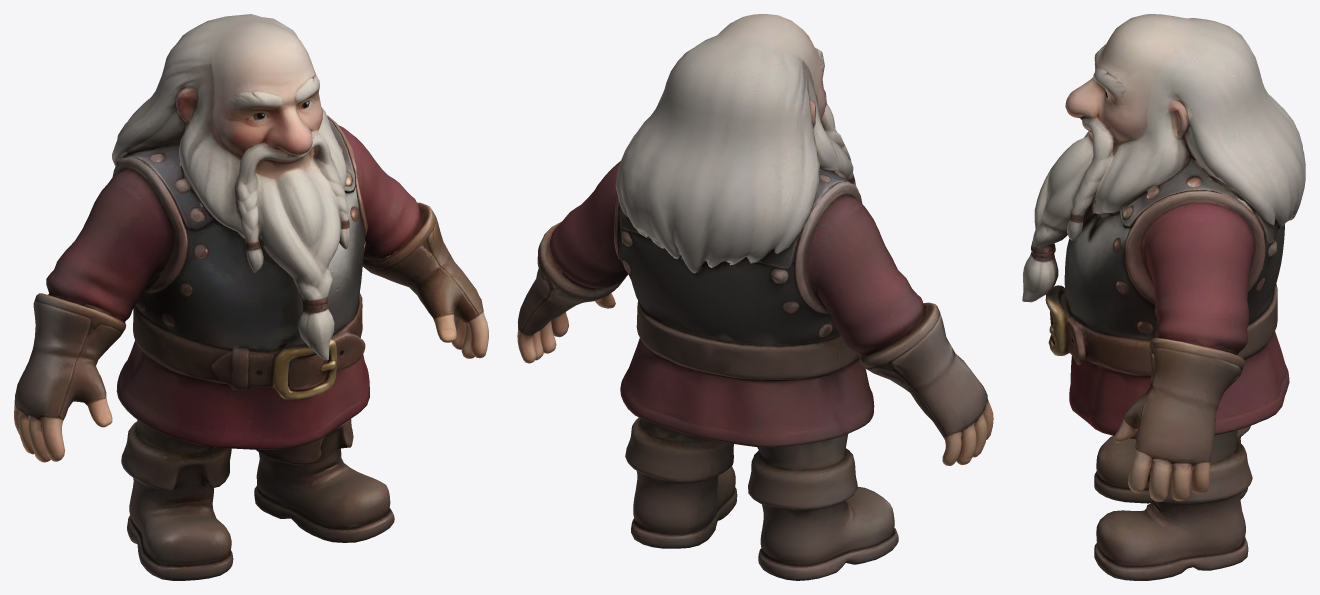
The model's file is dwarf.glb.
3 renders of one model, left to right at view 1: azimuth 30°, elevation 25°; view 2: azimuth 150°, elevation 25°; view 3: azimuth 270°, elevation 25°, orthographic.
Parts seen in each view (by area): view 1: tripo_node_6f8bc9ad-d3be-4bb3-8ca2-e895511eb827; view 2: tripo_node_6f8bc9ad-d3be-4bb3-8ca2-e895511eb827; view 3: tripo_node_6f8bc9ad-d3be-4bb3-8ca2-e895511eb827.
Boxes of the visible parts, bbox=[...] form: tripo_node_6f8bc9ad-d3be-4bb3-8ca2-e895511eb827: bbox=[14, 14, 488, 580]; tripo_node_6f8bc9ad-d3be-4bb3-8ca2-e895511eb827: bbox=[517, 14, 993, 580]; tripo_node_6f8bc9ad-d3be-4bb3-8ca2-e895511eb827: bbox=[1022, 14, 1305, 580].
Size of the model in its own units: 0.9001 by 0.9775 by 0.4954.
1 material, 1 textured.
